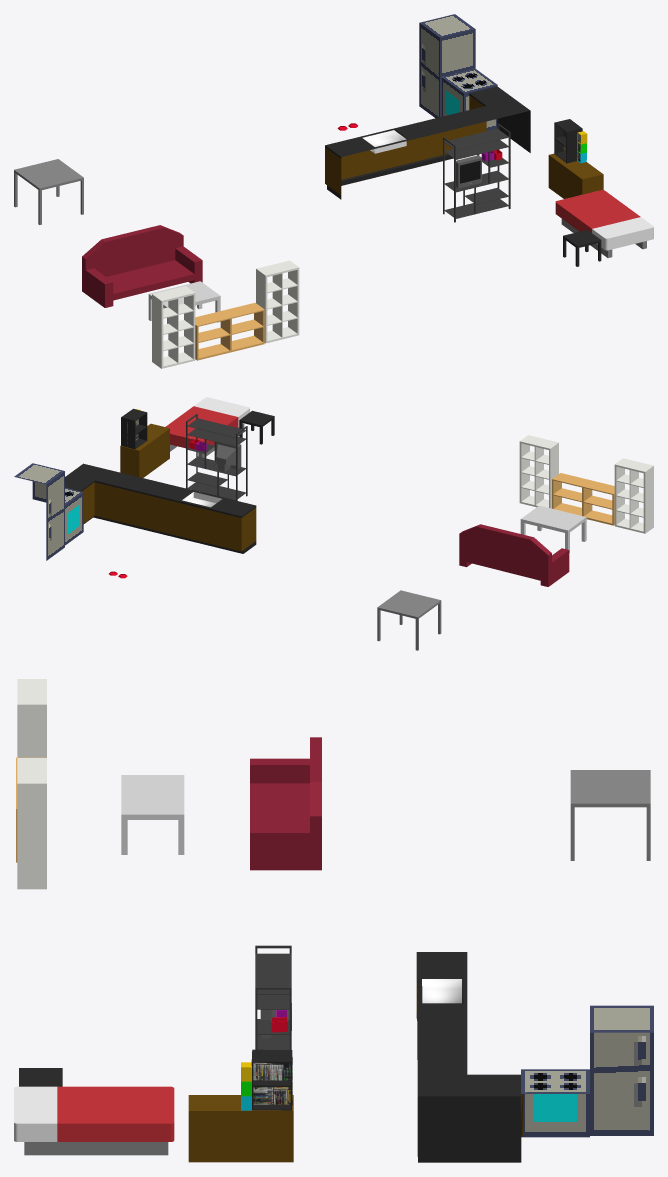
3 renders of one model, top to bottom at view 1: azimuth 30°, elevation 25°; view 2: azimuth 150°, elevation 25°; view 3: azimuth 270°, elevation 25°, orthographic. The views are drawn at different scales.
Parts seen in each view (by area): view 1: Plane_004, Cylinder_001, Cube_001, SketchUp_002_ID19_001, SketchUp_007_ID61, Cube_006_Cube_030, Cube_006_Cube_000, Cube_005_Cube_027, dresser_Cube_001, LACK_tableS_Cube_002_Cube_004, SketchUp_004_ID37, tv_instance_0_ID23 (+2 smaller); view 2: Plane_004, Cylinder_001, Cube_001, SketchUp_007_ID61, Cube_006_Cube_030, Cube_006_Cube_000, Cube_005_Cube_027, SketchUp_002_ID19_001, dresser_Cube_001, LACK_tableS_Cube_002_Cube_004, SketchUp_004_ID37, tv_instance_0_ID23 (+3 smaller); view 3: Plane_004, Cube_001, SketchUp_002_ID19_001, Cylinder_001, dresser_Cube_001, Cube_006_Cube_000, LACK_tableS_Cube_002_Cube_004, SketchUp_004_ID37, SketchUp_007_ID61, Cube_006_Cube_030, dvdboxbig1, dvdboxbig2 (+1 smaller).
Boxes of the visible parts, x1,y1,x2,y2 form: Plane_004: (325, 86, 530, 199); Cylinder_001: (82, 225, 202, 307); Cube_001: (419, 14, 497, 130); SketchUp_002_ID19_001: (555, 190, 653, 257); SketchUp_007_ID61: (443, 123, 510, 222); Cube_006_Cube_030: (152, 286, 195, 368); Cube_006_Cube_000: (256, 260, 299, 343); Cube_005_Cube_027: (195, 302, 264, 360); dresser_Cube_001: (548, 153, 603, 198); LACK_tableS_Cube_002_Cube_004: (14, 159, 83, 224); SketchUp_004_ID37: (148, 281, 220, 323); tv_instance_0_ID23: (456, 155, 481, 188); Plane_004: (65, 463, 256, 553); Cylinder_001: (459, 524, 569, 586); Cube_001: (14, 463, 83, 560); SketchUp_007_ID61: (186, 414, 247, 500); Cube_006_Cube_030: (614, 458, 653, 533); Cube_006_Cube_000: (519, 435, 558, 508); Cube_005_Cube_027: (552, 473, 614, 525); SketchUp_002_ID19_001: (165, 397, 249, 457); dresser_Cube_001: (120, 423, 169, 477); LACK_tableS_Cube_002_Cube_004: (377, 590, 441, 650); SketchUp_004_ID37: (520, 505, 586, 552); tv_instance_0_ID23: (216, 442, 241, 472); Plane_004: (416, 952, 523, 1162); Cube_001: (521, 1005, 653, 1137); SketchUp_002_ID19_001: (14, 1086, 174, 1155); Cylinder_001: (250, 737, 321, 870); dresser_Cube_001: (188, 1095, 293, 1162); Cube_006_Cube_000: (17, 758, 46, 889); LACK_tableS_Cube_002_Cube_004: (570, 770, 650, 860); SketchUp_004_ID37: (121, 775, 184, 854); SketchUp_007_ID61: (255, 945, 291, 1049); Cube_006_Cube_030: (17, 679, 46, 757); dvdboxbig1: (251, 1049, 292, 1086); dvdboxbig2: (252, 1081, 292, 1110).
Bounding box in the file's own units: 11.21 × 8.02 × 1.8.
Materials: 23 (6 with a texture image).
